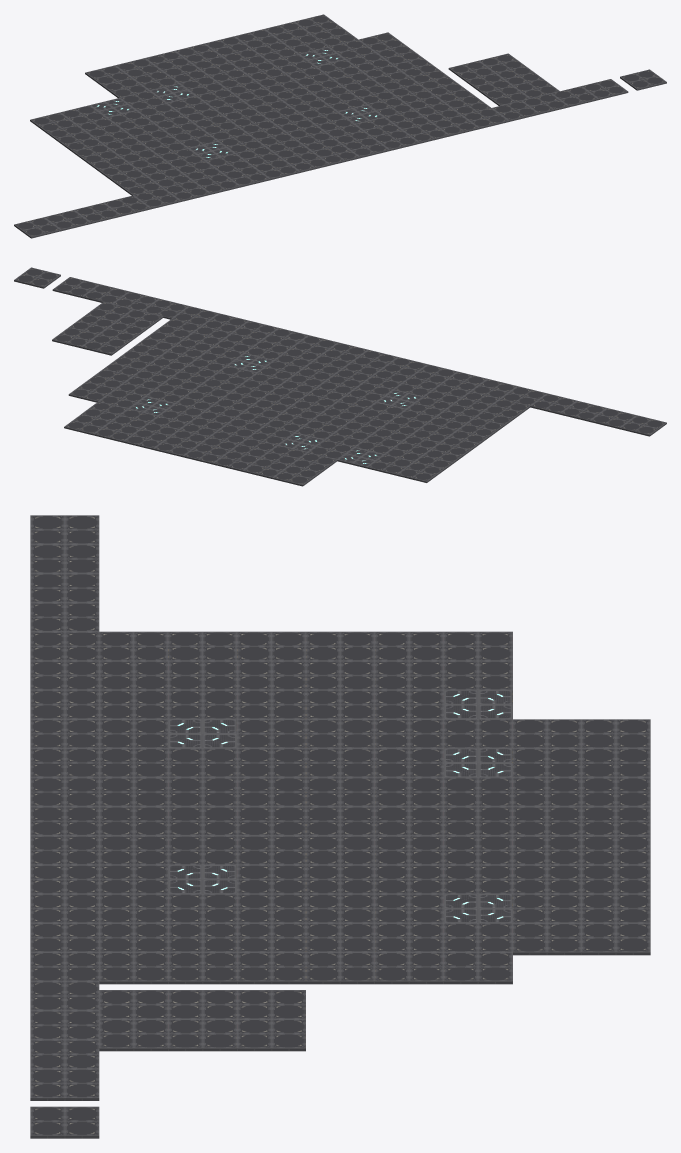
The model's file is MusicFloor01.glb.
3 views of the same model, one above another, from view 1: azimuth 30°, elevation 25°; view 2: azimuth 150°, elevation 25°; view 3: azimuth 270°, elevation 25° (orthographic). The views are drawn at different scales.
Parts seen in each view (by area): view 1: SM_Bld_Platform_Large_03__100__1, SM_Bld_Platform_Large_03__64_, SM_Bld_Platform_Large_03__60_, SM_Bld_Platform_Large_03__78__2, SM_Bld_Platform_Large_03__98__1, SM_Bld_Platform_Large_03__66_, SM_Bld_Platform_Large_03__68_, SM_Bld_Platform_Large_03__69_, SM_Bld_Platform_Large_03__79__1, SM_Bld_Platform_Large_03__61_, SM_Bld_Platform_Large_03__62_, SM_Bld_Platform_Large_03__96__2 (+103 smaller); view 2: SM_Bld_Platform_Large_03__140_, SM_Bld_Platform_Large_03__100__1, SM_Bld_Platform_Large_03__144__1, SM_Bld_Platform_Large_03__83_, SM_Bld_Platform_Large_03__64_, SM_Bld_Platform_Large_03__70_, SM_Bld_Platform_Large_02__4_, SM_Bld_Platform_Large_03__142_, SM_Bld_Platform_Large_03__88_, SM_Bld_Platform_Large_03__98__1, SM_Bld_Platform_Large_03__78_, SM_Bld_Platform_Large_03__92_ (+103 smaller); view 3: SM_Bld_Platform_Large_03__96_, SM_Bld_Platform_Large_03__64_, SM_Bld_Platform_Large_03__105_, SM_Bld_Platform_Large_03__142_, SM_Bld_Platform_Large_03__143_, SM_Bld_Platform_Large_03__144_, SM_Bld_Platform_Large_03__137__1, SM_Bld_Platform_Large_03__74__2, SM_Bld_Platform_Large_03__77_, SM_Bld_Platform_Large_03__81_, SM_Bld_Platform_Large_03__86_, SM_Bld_Platform_Large_03__95_ (+103 smaller).
Boxes of the visible parts, <box> form: SM_Bld_Platform_Large_03__100__1: <box>14,217,60,238</box>; SM_Bld_Platform_Large_03__64_: <box>620,69,666,90</box>; SM_Bld_Platform_Large_03__60_: <box>313,144,359,165</box>; SM_Bld_Platform_Large_03__78__2: <box>193,173,240,194</box>; SM_Bld_Platform_Large_03__98__1: <box>104,195,150,216</box>; SM_Bld_Platform_Large_03__66_: <box>522,93,568,114</box>; SM_Bld_Platform_Large_03__68_: <box>402,122,449,143</box>; SM_Bld_Platform_Large_03__69_: <box>432,115,478,136</box>; SM_Bld_Platform_Large_03__79__1: <box>223,166,269,187</box>; SM_Bld_Platform_Large_03__61_: <box>342,137,389,158</box>; SM_Bld_Platform_Large_03__62_: <box>551,86,598,107</box>; SM_Bld_Platform_Large_03__96__2: <box>134,188,180,209</box>; SM_Bld_Platform_Large_03__140_: <box>397,462,444,482</box>; SM_Bld_Platform_Large_03__100__1: <box>620,415,666,436</box>; SM_Bld_Platform_Large_03__144__1: <box>81,334,128,355</box>; SM_Bld_Platform_Large_03__83_: <box>273,465,319,486</box>; SM_Bld_Platform_Large_03__64_: <box>14,267,60,288</box>; SM_Bld_Platform_Large_03__70_: <box>213,450,259,471</box>; SM_Bld_Platform_Large_02__4_: <box>337,447,383,468</box>; SM_Bld_Platform_Large_03__142_: <box>68,381,115,402</box>; SM_Bld_Platform_Large_03__88_: <box>123,429,170,449</box>; SM_Bld_Platform_Large_03__98__1: <box>530,393,576,414</box>; SM_Bld_Platform_Large_03__78_: <box>153,436,200,457</box>; SM_Bld_Platform_Large_03__92_: <box>94,421,140,442</box>; SM_Bld_Platform_Large_03__96_: <box>581,923,650,955</box>; SM_Bld_Platform_Large_03__64_: <box>30,1106,99,1138</box>; SM_Bld_Platform_Large_03__105_: <box>513,923,581,955</box>; SM_Bld_Platform_Large_03__142_: <box>444,952,512,984</box>; SM_Bld_Platform_Large_03__143_: <box>375,952,443,984</box>; SM_Bld_Platform_Large_03__144_: <box>306,952,374,984</box>; SM_Bld_Platform_Large_03__137__1: <box>237,1019,305,1051</box>; SM_Bld_Platform_Large_03__74__2: <box>99,1019,167,1051</box>; SM_Bld_Platform_Large_03__77_: <box>99,952,167,984</box>; SM_Bld_Platform_Large_03__81_: <box>168,1019,236,1051</box>; SM_Bld_Platform_Large_03__86_: <box>168,952,236,984</box>; SM_Bld_Platform_Large_03__95_: <box>237,952,305,984</box>.
Size of the model in its own units: 106 by 0.2374 by 45.
1 material, 1 textured.
